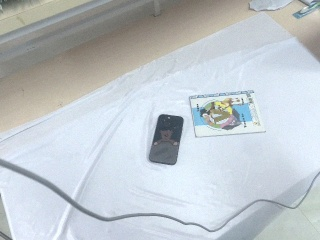book: (189, 90, 267, 139)
phone: (148, 114, 184, 166)
